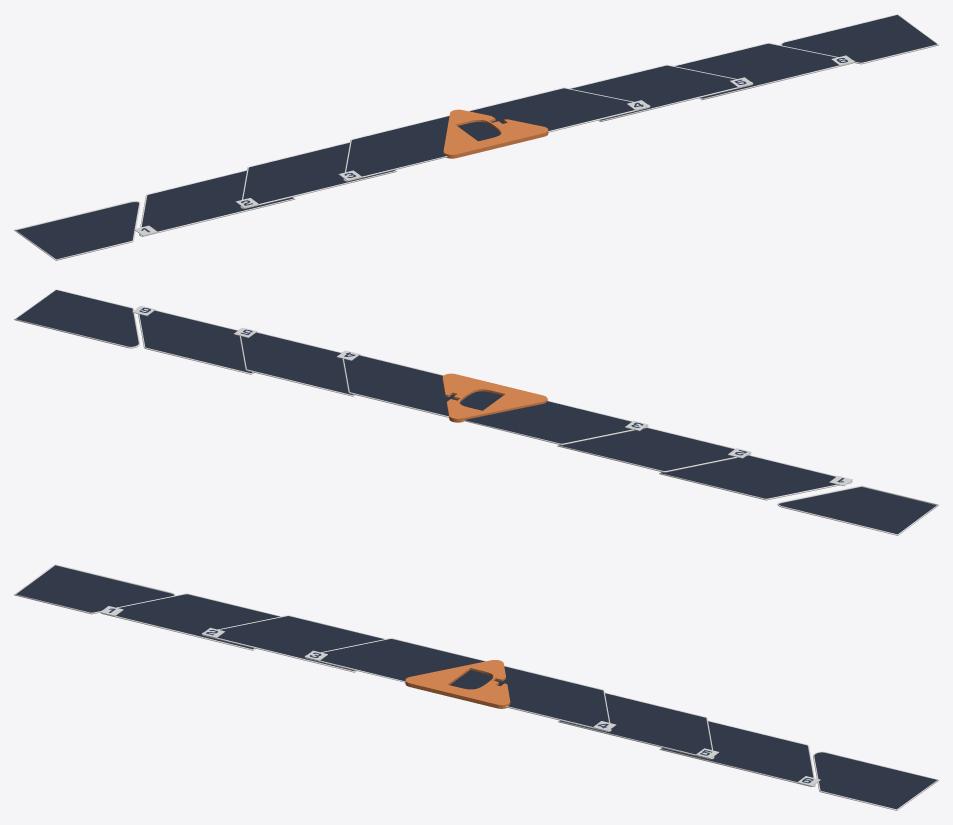
The model's file is inventario.fbx.
3 renders of one model, top to bottom at view 1: azimuth 30°, elevation 25°; view 2: azimuth 150°, elevation 25°; view 3: azimuth 330°, elevation 25°, orthographic.
Visible parts, largest first — view 1: criatura_panel_03.001, criatura_panel_04.001, criatura_panel_02.001, criatura_panel_01.001, metadata_panel.001, mapa_panel.001, criatura_panel_05.001, criatura_panel_06.001, d logo 3D.001, panel rim.015, panel rim.009, panel rim.010 (+2 smaller); view 2: criatura_panel_04.001, criatura_panel_03.001, criatura_panel_02.001, criatura_panel_01.001, mapa_panel.001, criatura_panel_05.001, criatura_panel_06.001, metadata_panel.001, d logo 3D.001, panel rim.015, panel rim.013, panel rim.012 (+1 smaller); view 3: criatura_panel_04.001, criatura_panel_03.001, criatura_panel_05.001, mapa_panel.001, criatura_panel_06.001, metadata_panel.001, criatura_panel_02.001, criatura_panel_01.001, d logo 3D.001, panel rim.012, panel rim.013, panel rim.009 (+1 smaller).
Part boxes in pixels (left/top/right/bottom): criatura_panel_03.001: left=346, top=116, right=489, bottom=176; criatura_panel_04.001: left=470, top=88, right=633, bottom=138; criatura_panel_02.001: left=243, top=142, right=394, bottom=203; criatura_panel_01.001: left=141, top=170, right=293, bottom=231; metadata_panel.001: left=16, top=202, right=138, bottom=259; mapa_panel.001: left=782, top=15, right=936, bottom=62; criatura_panel_05.001: left=571, top=65, right=737, bottom=120; criatura_panel_06.001: left=675, top=43, right=838, bottom=98; d logo 3D.001: left=443, top=109, right=548, bottom=158; panel rim.015: left=14, top=201, right=140, bottom=260; panel rim.009: left=569, top=64, right=752, bottom=121; panel rim.010: left=674, top=43, right=854, bottom=100; criatura_panel_04.001: left=344, top=355, right=490, bottom=416; criatura_panel_03.001: left=464, top=392, right=646, bottom=443; criatura_panel_02.001: left=559, top=428, right=734, bottom=470; criatura_panel_01.001: left=661, top=455, right=836, bottom=498; mapa_panel.001: left=16, top=290, right=138, bottom=346; criatura_panel_05.001: left=241, top=332, right=352, bottom=394; criatura_panel_06.001: left=139, top=310, right=251, bottom=372; metadata_panel.001: left=779, top=487, right=936, bottom=534; d logo 3D.001: left=442, top=373, right=547, bottom=422; panel rim.015: left=777, top=485, right=938, bottom=535; panel rim.013: left=659, top=455, right=852, bottom=500; panel rim.012: left=557, top=427, right=751, bottom=472; criatura_panel_04.001: left=464, top=666, right=608, bottom=726; criatura_panel_03.001: left=320, top=639, right=484, bottom=688; criatura_panel_05.001: left=560, top=693, right=711, bottom=754; mapa_panel.001: left=814, top=752, right=936, bottom=809; criatura_panel_06.001: left=661, top=721, right=813, bottom=781; metadata_panel.001: left=16, top=565, right=173, bottom=612; criatura_panel_02.001: left=217, top=616, right=383, bottom=670; criatura_panel_01.001: left=116, top=594, right=279, bottom=649; d logo 3D.001: left=405, top=660, right=510, bottom=708; panel rim.012: left=202, top=615, right=384, bottom=672; panel rim.013: left=100, top=593, right=281, bottom=650; panel rim.009: left=558, top=692, right=714, bottom=759.
Bounding box in the file's own units: 178 × 2.17 × 15.97.
